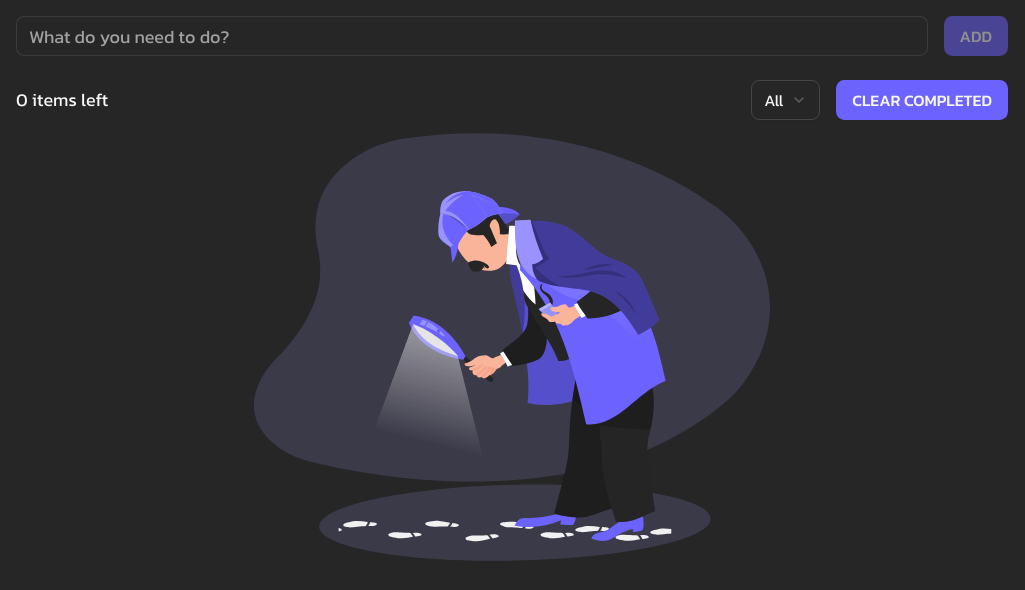
it: Todos Component (Full Integration Test) › should delete a task
The image size is (1025, 590).
Type "Task to delete" into the field with placeholder "What do you need to do?" at (472, 36), box [16,16,928,56]
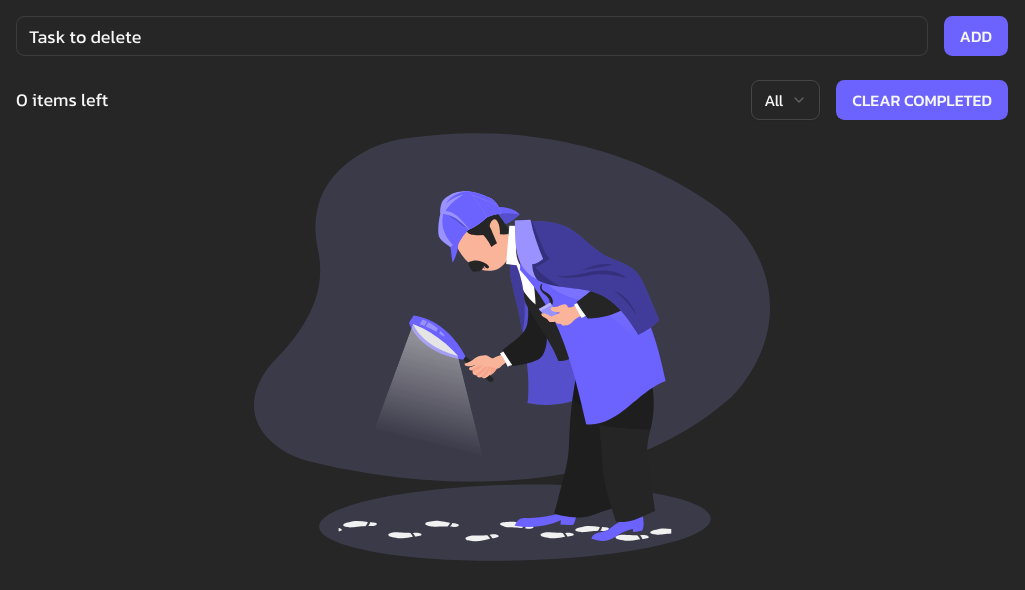
Click the button "Add" at (976, 36), box [944,16,1008,56]
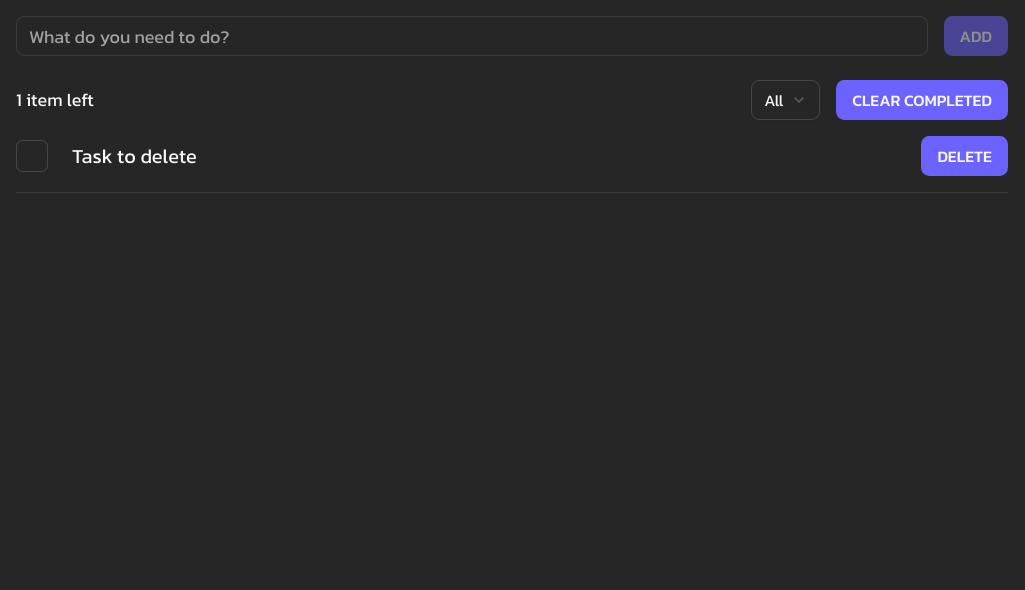
Expected: the field with placeholder "What do you need to do?" is empty, [16,16,928,56]
Expected: the text "Task to delete" is shown, [72,142,197,170]
Expected: the text "1 item left" is shown, [16,86,94,114]
Click the button "Delete" at (965, 156), box [921,136,1008,176]
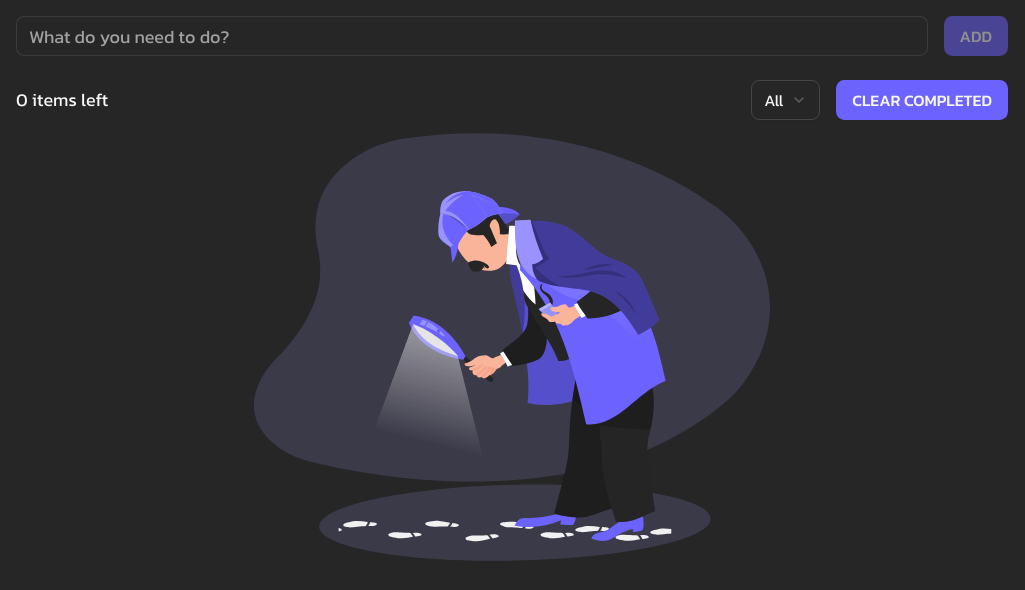
Expected: the text "Task to delete" is gone
Expected: the text "0 items left" is shown, [16,86,108,114]
Expected: the picture with alt text "Todos is empty" is shown, [224,120,800,574]
